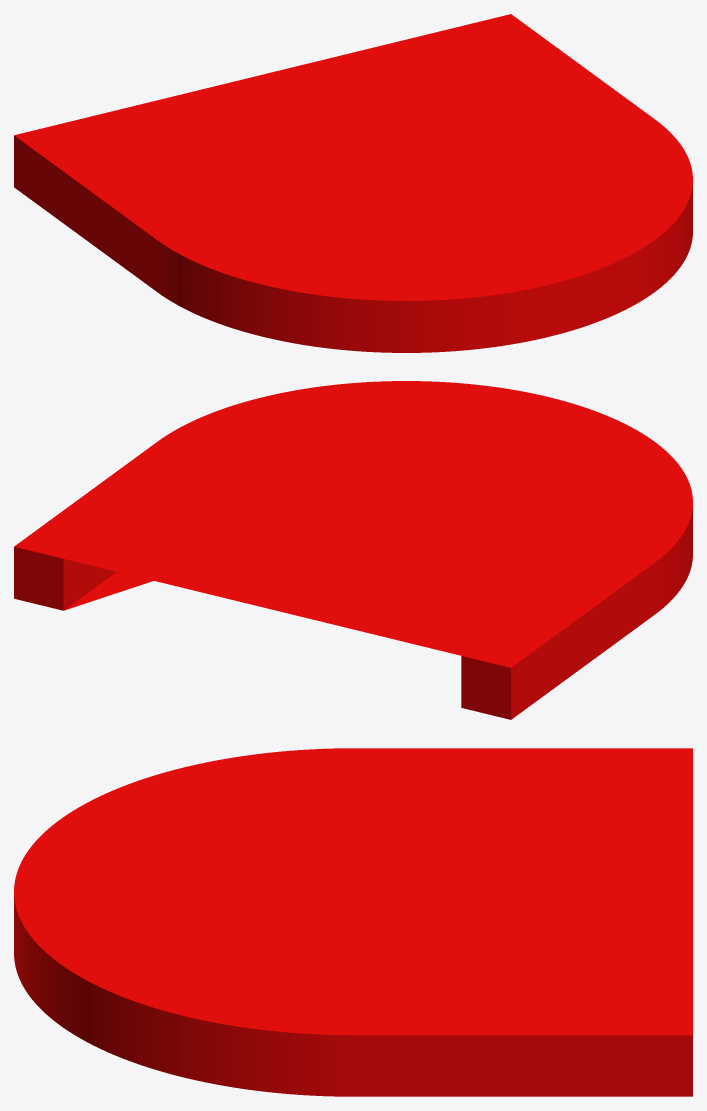
File: PlayerModel.fbx
3 renders of one model, top to bottom at view 1: azimuth 30°, elevation 25°; view 2: azimuth 150°, elevation 25°; view 3: azimuth 270°, elevation 25°, orthographic. The views are drawn at different scales.
Parts seen in each view (by area): view 1: Cube.001; view 2: Cube.001; view 3: Cube.001.
Boxes of the visible parts, bbox=[...] form: Cube.001: bbox=[14, 14, 692, 352]; Cube.001: bbox=[14, 381, 692, 719]; Cube.001: bbox=[14, 748, 692, 1096].
Size of the model in its own units: 200 by 20 by 200.
